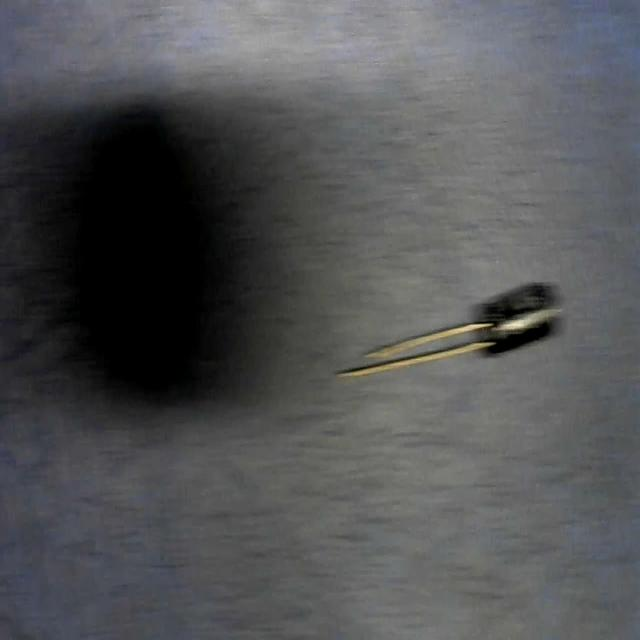capacitor: (338, 283, 556, 384)
